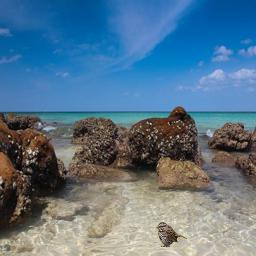Sparrow: (156, 222, 187, 247)
